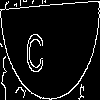C: (25, 25, 45, 73)
